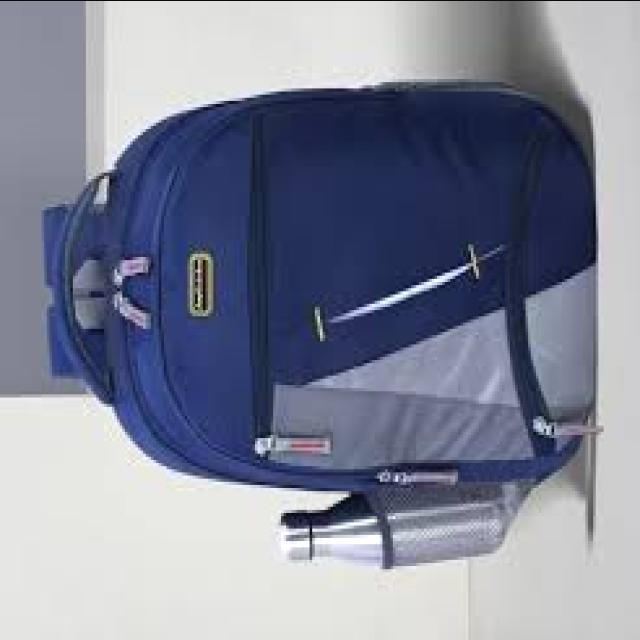backpack: (41, 79, 597, 573)
